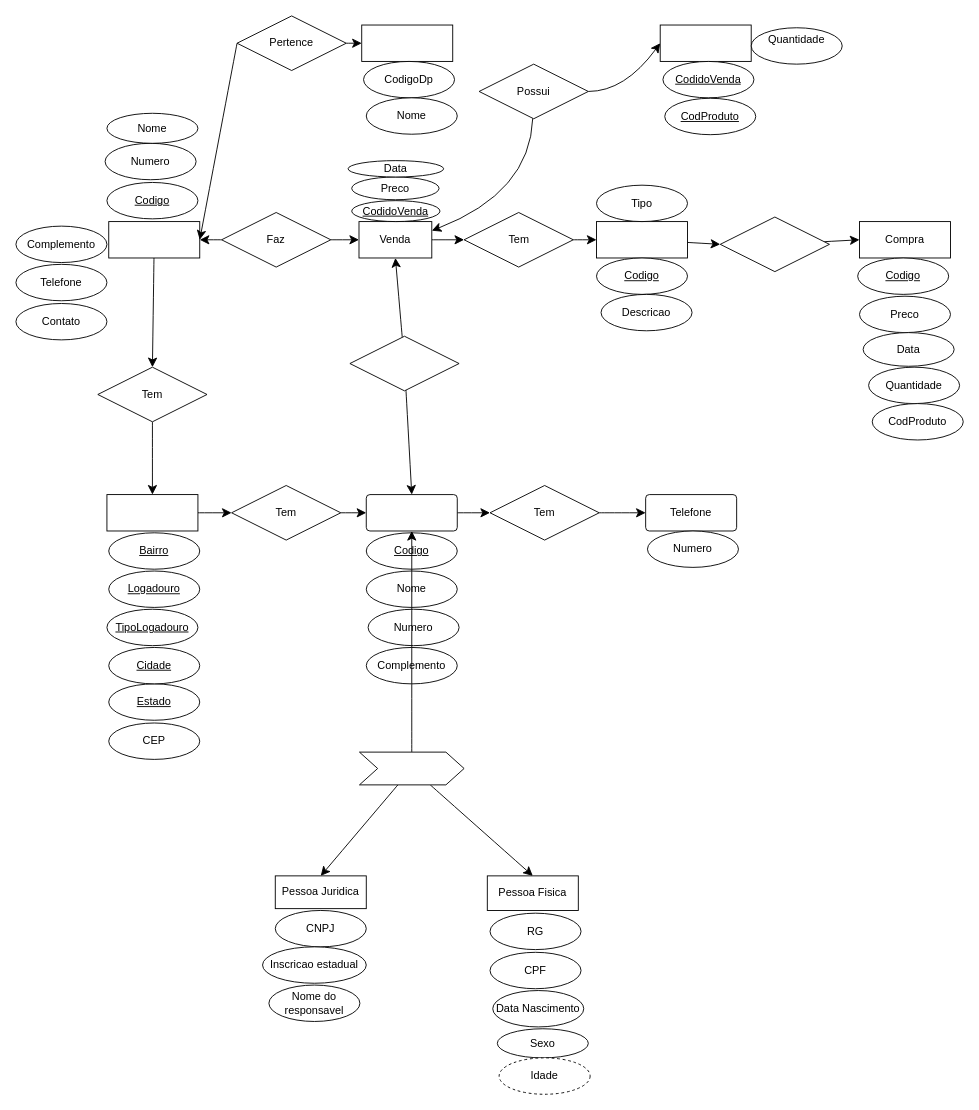
This 979x1110 diagram has some shape labels left out. Each missing label, with the box of its shape:
Cliente: (365, 494, 457, 531)
D T: (359, 751, 464, 785)
Departamento: (361, 24, 453, 61)
Endereco: (106, 494, 198, 531)
Esta: (719, 216, 829, 272)
Funcionario: (108, 221, 200, 258)
ItemDaVenda: (659, 24, 751, 61)
Produto: (596, 221, 688, 258)
vendida: (349, 335, 459, 391)
